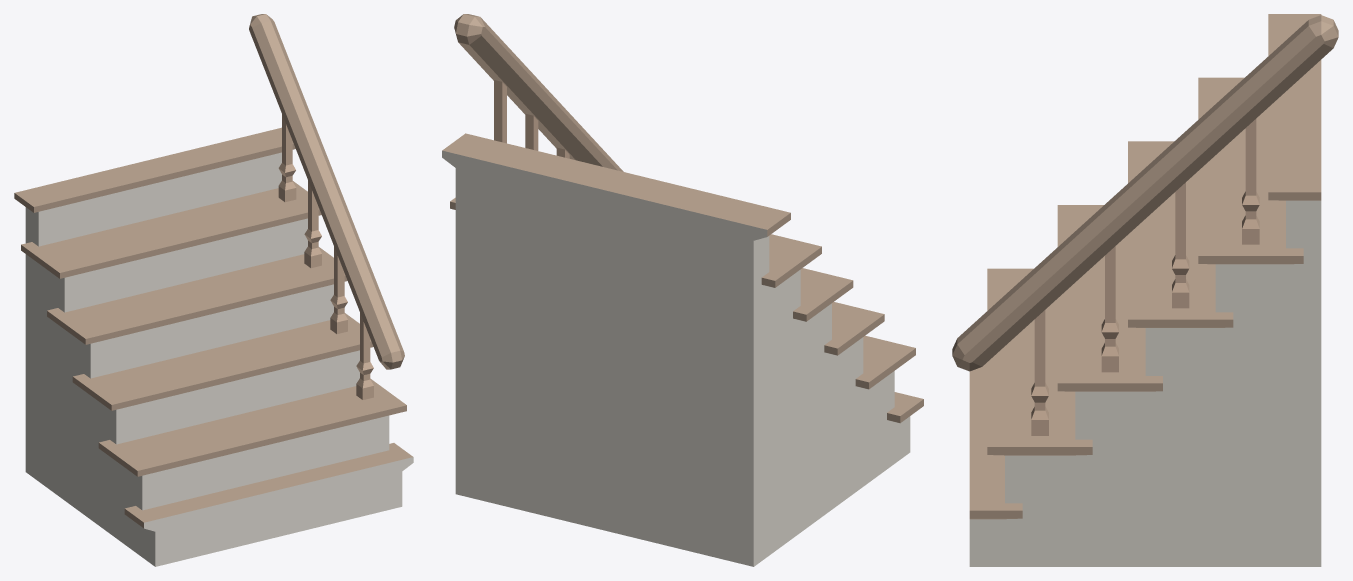
Rendered from Structure_Stairs_Straight.fbx.
3 views of the same model, side by side, from view 1: azimuth 30°, elevation 25°; view 2: azimuth 150°, elevation 25°; view 3: azimuth 270°, elevation 25° (orthographic). The views are drawn at different scales.
Parts seen in each view (by area): view 1: object1.110, object1.109; view 2: object1.110, object1.109; view 3: object1.110, object1.109.
Boxes of the visible parts, left/top/right/bottom form: object1.110: left=14, top=127, right=413, bottom=566; object1.109: left=249, top=14, right=404, bottom=399; object1.110: left=442, top=133, right=923, bottom=566; object1.109: left=454, top=14, right=623, bottom=171; object1.110: left=969, top=14, right=1321, bottom=566; object1.109: left=952, top=15, right=1338, bottom=435.
Bounding box in the file's own units: 120 × 170 × 110.
